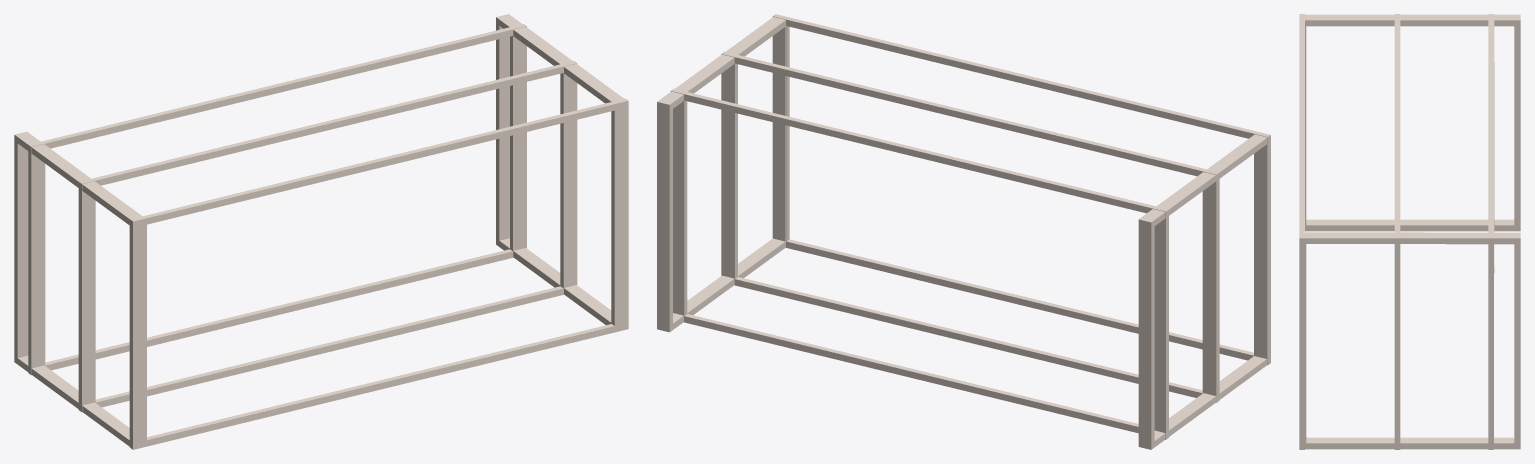
Rendered from MeshTvStand_211_0_GeomSubset_0.obj.
3 views of the same model, side by side, from view 1: azimuth 30°, elevation 25°; view 2: azimuth 150°, elevation 25°; view 3: azimuth 270°, elevation 25° (orthographic). The views are drawn at different scales.
Visible parts, largest first — view 1: MeshTvStand_211_0_GeomSubset_0; view 2: MeshTvStand_211_0_GeomSubset_0; view 3: MeshTvStand_211_0_GeomSubset_0.
Part boxes in pixels (left/top/right/bottom): MeshTvStand_211_0_GeomSubset_0: left=14, top=14, right=628, bottom=449; MeshTvStand_211_0_GeomSubset_0: left=657, top=14, right=1270, bottom=449; MeshTvStand_211_0_GeomSubset_0: left=1299, top=14, right=1520, bottom=449.
Bounding box in the file's own units: 1.42 × 0.6251 × 0.5919.
